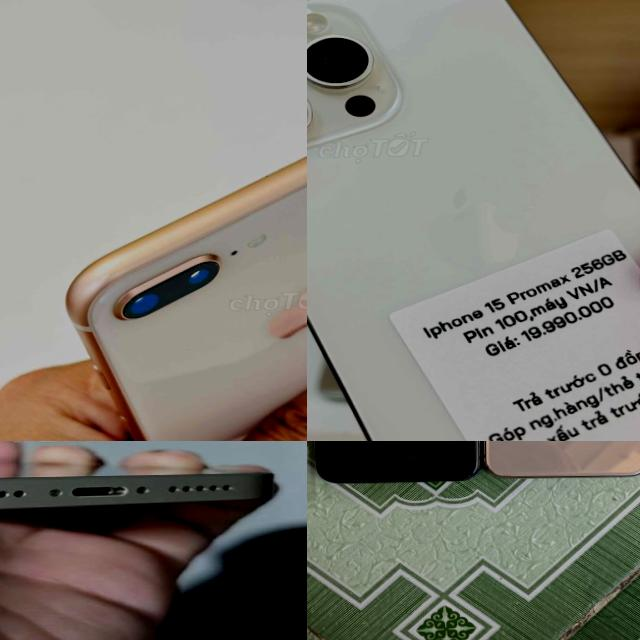gen_14: (0, 441, 301, 533)
gen_15: (307, 0, 640, 441)
gen_7_8: (57, 100, 307, 441)
